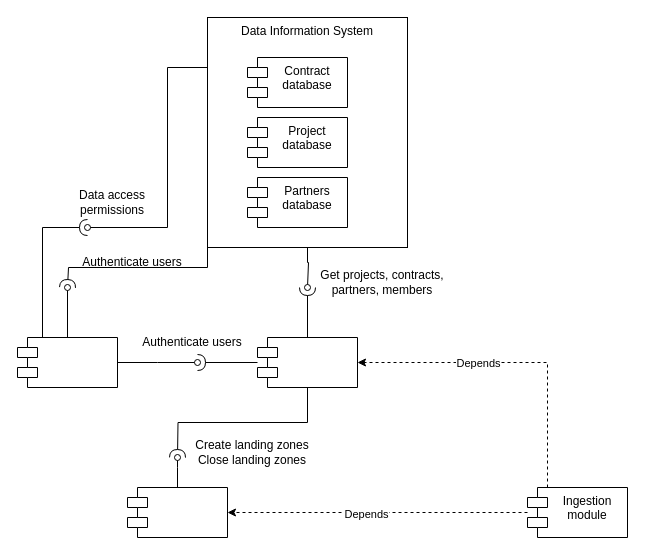
Some shapes in this 645 by 555 pixel diagram are drawn without their labels. The shapes that lost their labels are listed below. From the top down, each one's centre as x and y in pixels, then its label:
At point 67,362: "Keycloak".
At point 307,362: "DSS".
At point 177,512: "LFT".
